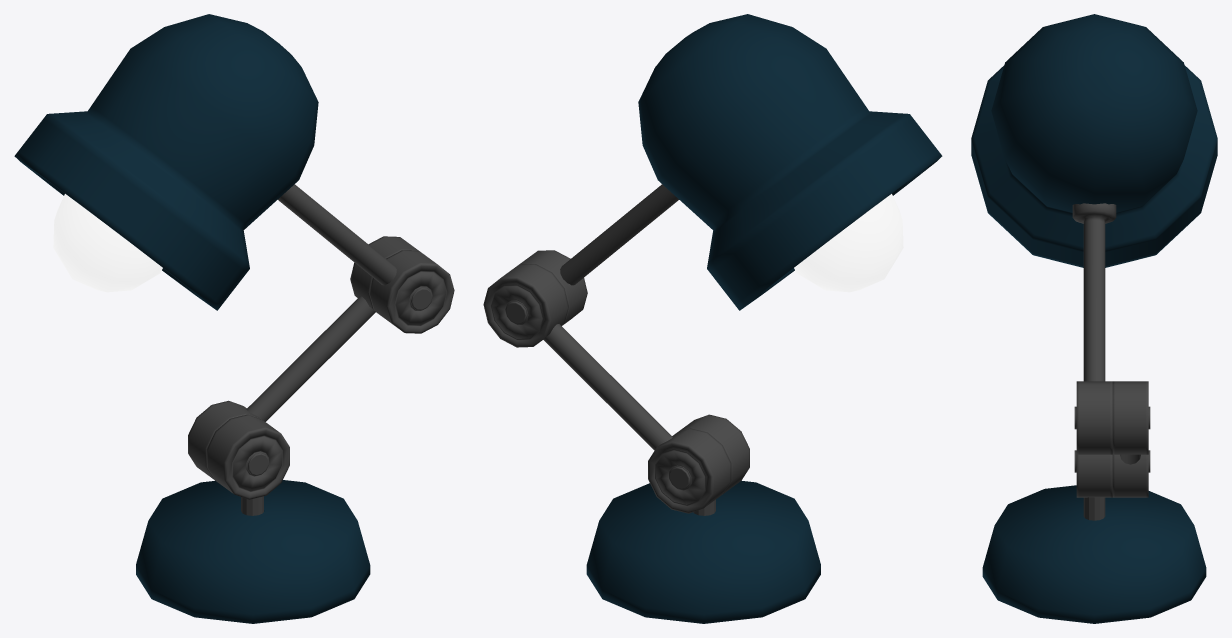
The model's file is Lamp.glb.
The picture shows the model from 3 angles, left to right: view 1: azimuth 30°, elevation 25°; view 2: azimuth 150°, elevation 25°; view 3: azimuth 270°, elevation 25°; orthographic projection. The views are drawn at different scales.
Parts seen in each view (by area): view 1: Lamp_02; view 2: Lamp_02; view 3: Lamp_02.
Part boxes in pixels (left/top/right/bottom): Lamp_02: left=14, top=14, right=454, bottom=623; Lamp_02: left=483, top=14, right=942, bottom=623; Lamp_02: left=971, top=14, right=1217, bottom=623.
Bounding box in the file's own units: 0.7514 × 0.9826 × 0.4102.
